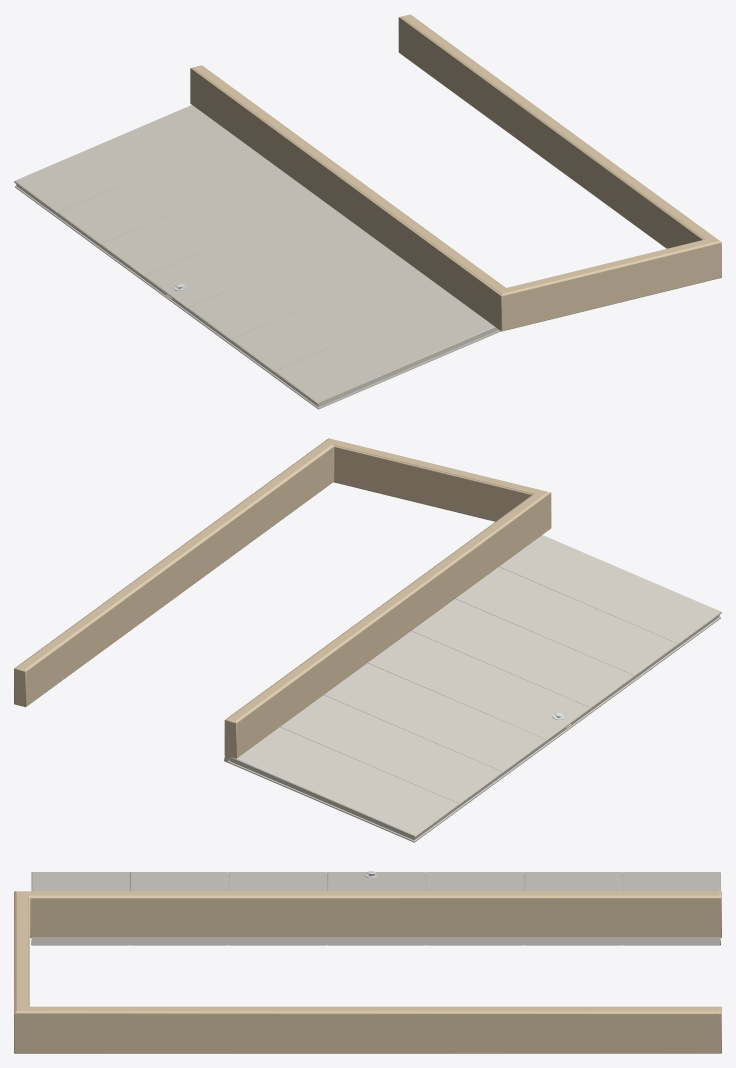
File: doorKitchen.glb
3 renders of one model, top to bottom at view 1: azimuth 30°, elevation 25°; view 2: azimuth 150°, elevation 25°; view 3: azimuth 270°, elevation 25°, orthographic. The views are drawn at different scales.
Visible parts, largest first — view 1: Mesh1__1_0, Mesh6__2_0; view 2: Mesh1__1_0, Mesh6__2_0; view 3: Mesh6__2_0, Mesh1__1_0.
Boxes of the visible parts, bbox=[...] form: Mesh1__1_0: bbox=[14, 105, 500, 409]; Mesh6__2_0: bbox=[190, 14, 721, 331]; Mesh1__1_0: bbox=[224, 535, 721, 842]; Mesh6__2_0: bbox=[14, 438, 551, 758]; Mesh6__2_0: bbox=[14, 891, 721, 1053]; Mesh1__1_0: bbox=[31, 872, 720, 945].
Size of the model in its own units: 5.23 by 0.9917 by 7.11.
